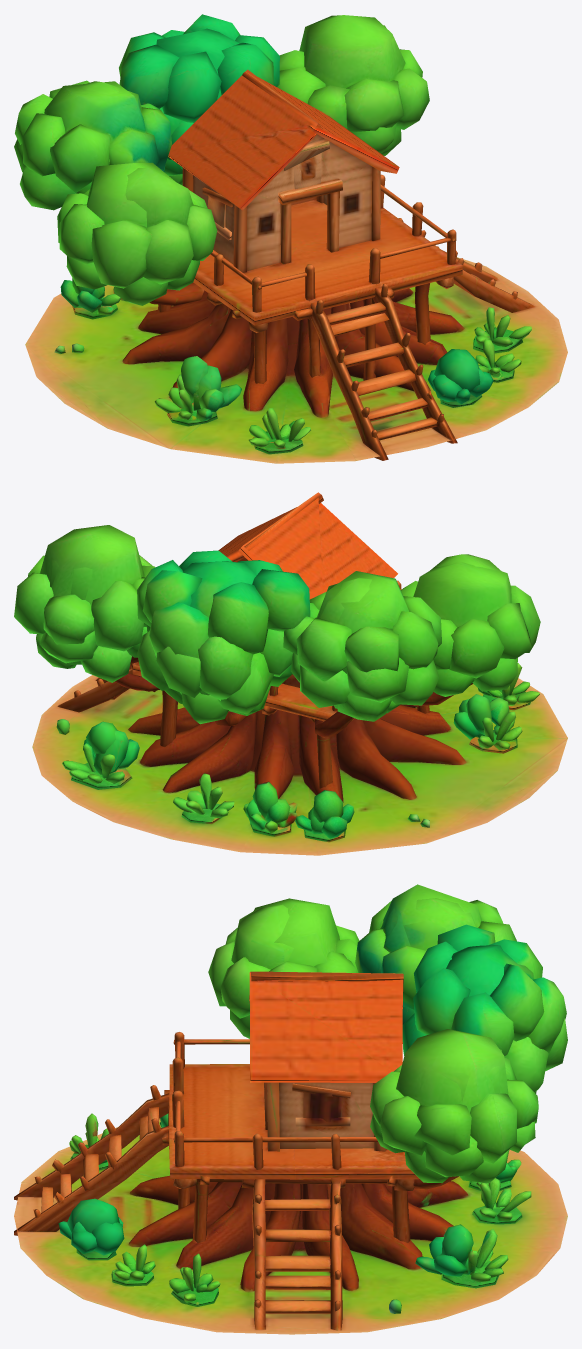
File: r5c6_treehouse.glb
3 views of the same model, one above another, from view 1: azimuth 30°, elevation 25°; view 2: azimuth 150°, elevation 25°; view 3: azimuth 270°, elevation 25° (orthographic). The views are drawn at different scales.
Bounding box in the file's own units: 1 × 0.5508 × 1.
Materials: 1 (1 with a texture image).
